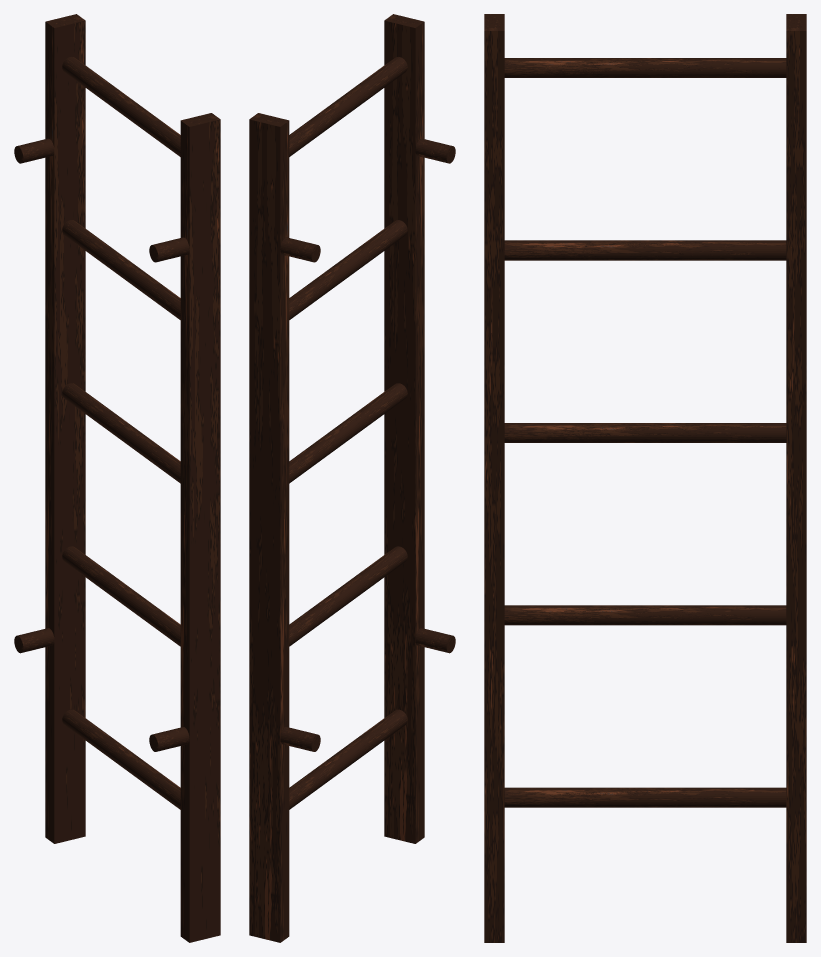
File: rustyladder.obj
3 renders of one model, left to right at view 1: azimuth 30°, elevation 25°; view 2: azimuth 150°, elevation 25°; view 3: azimuth 270°, elevation 25°, orthographic. The views are drawn at different scales.
Visible parts, largest first — view 1: Cylindre.008; view 2: Cylindre.008; view 3: Cylindre.008.
Boxes of the visible parts, x1,y1,x2,y2 form: Cylindre.008: [14, 14, 220, 942]; Cylindre.008: [249, 14, 455, 942]; Cylindre.008: [484, 14, 806, 942].
Size of the model in its own units: 0.08 by 1 by 0.32.
